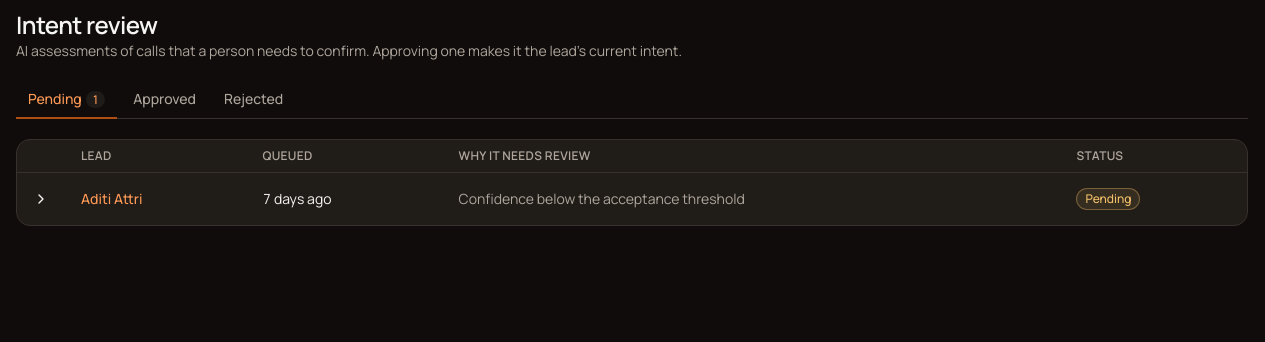
Test: Intent review › says when the details are gone
This screenshot has width=1265, height=342.
Click the button named "Show details for Aditi Attri": click(41, 199) left=25, top=183, right=57, bottom=215
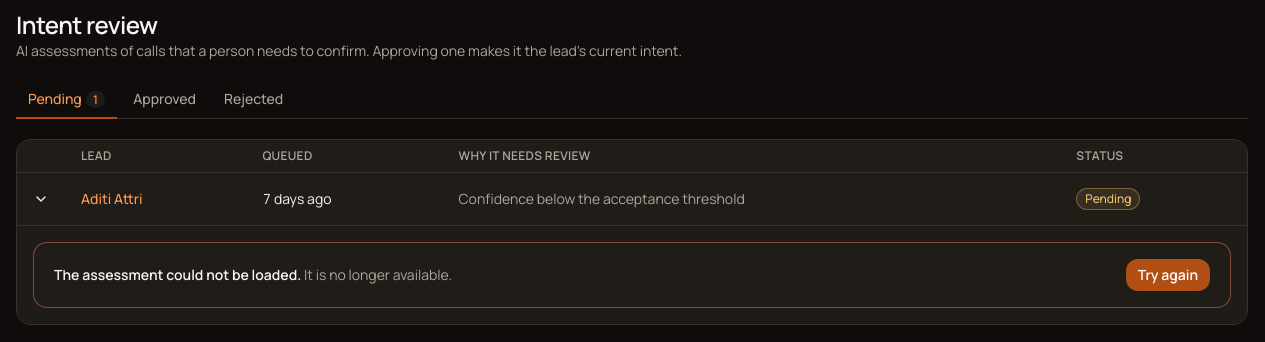
Check: the text "It is no longer available." is shown, box left=301, top=265, right=452, bottom=284
